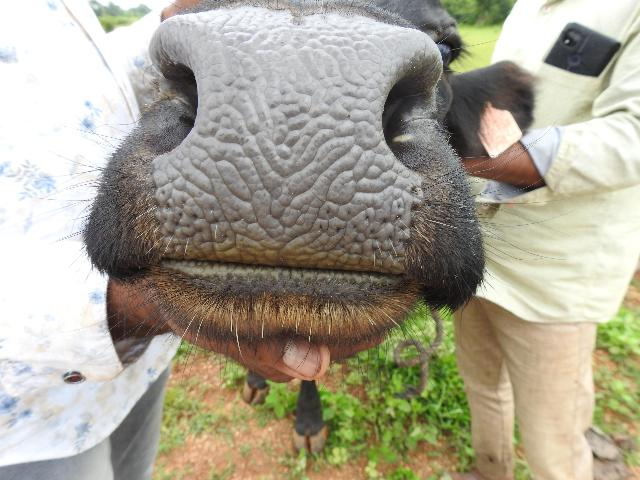Muzzle: (182, 21, 400, 264)
